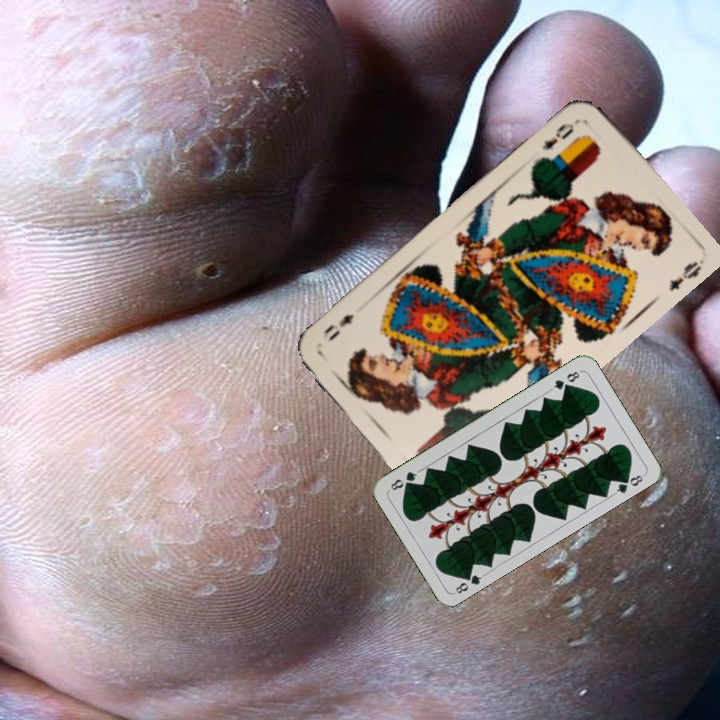EO: (538, 115, 582, 153)
G8: (450, 567, 487, 597), (547, 367, 584, 393)
